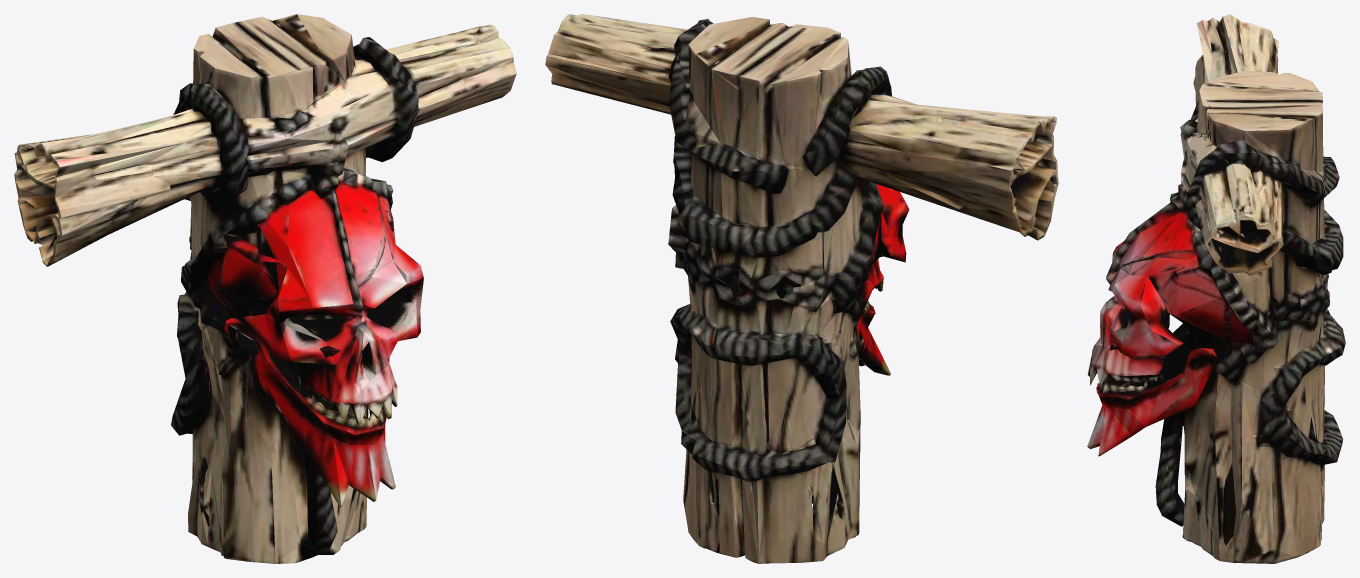
File: ogre_totem_01.glb
The picture shows the model from 3 angles, left to right: view 1: azimuth 30°, elevation 25°; view 2: azimuth 150°, elevation 25°; view 3: azimuth 270°, elevation 25°; orthographic projection. The views are drawn at different scales.
Parts seen in each view (by area): view 1: geometry_0; view 2: geometry_0; view 3: geometry_0.
Boxes of the visible parts, box(x1,y1,x2,y2) form: geometry_0: box(14, 14, 516, 563); geometry_0: box(545, 14, 1058, 563); geometry_0: box(1087, 14, 1345, 563).
Size of the model in its own units: 0.9999 by 0.9982 by 0.5427.
1 material, 1 textured.
